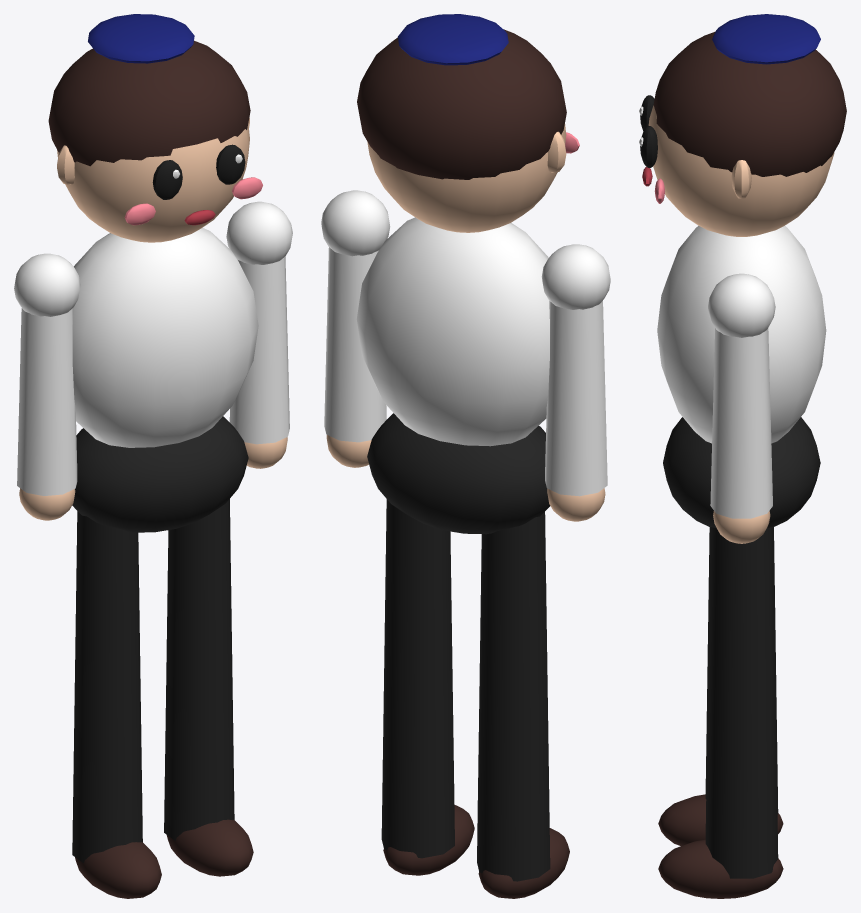
File: npc_man.glb
3 views of the same model, side by side, from view 1: azimuth 30°, elevation 25°; view 2: azimuth 150°, elevation 25°; view 3: azimuth 270°, elevation 25° (orthographic). The views are drawn at different scales.
Parts seen in each view (by area): view 1: Body.003, Leg_R.003, Leg_L.003, Arm_R.003, Arm_L.003; view 2: Body.003, Leg_R.003, Leg_L.003, Arm_R.003, Arm_L.003; view 3: Body.003, Leg_L.003, Arm_L.003, Leg_R.003.
Part boxes in pixels (bbox=[...]): Body.003: bbox=[48, 14, 262, 532]; Leg_R.003: bbox=[72, 511, 161, 898]; Leg_L.003: bbox=[164, 499, 253, 876]; Arm_R.003: bbox=[14, 253, 80, 520]; Arm_L.003: bbox=[226, 201, 292, 468]; Body.003: bbox=[356, 14, 579, 534]; Leg_R.003: bbox=[477, 512, 569, 898]; Leg_L.003: bbox=[381, 499, 474, 875]; Arm_R.003: bbox=[541, 244, 610, 521]; Arm_L.003: bbox=[321, 190, 390, 467]; Body.003: bbox=[639, 14, 846, 528]; Leg_L.003: bbox=[658, 527, 783, 898]; Arm_L.003: bbox=[708, 273, 775, 543]; Leg_R.003: bbox=[658, 527, 783, 845].
Bounding box in the file's own units: 0.6052 × 1.78 × 0.3981.
